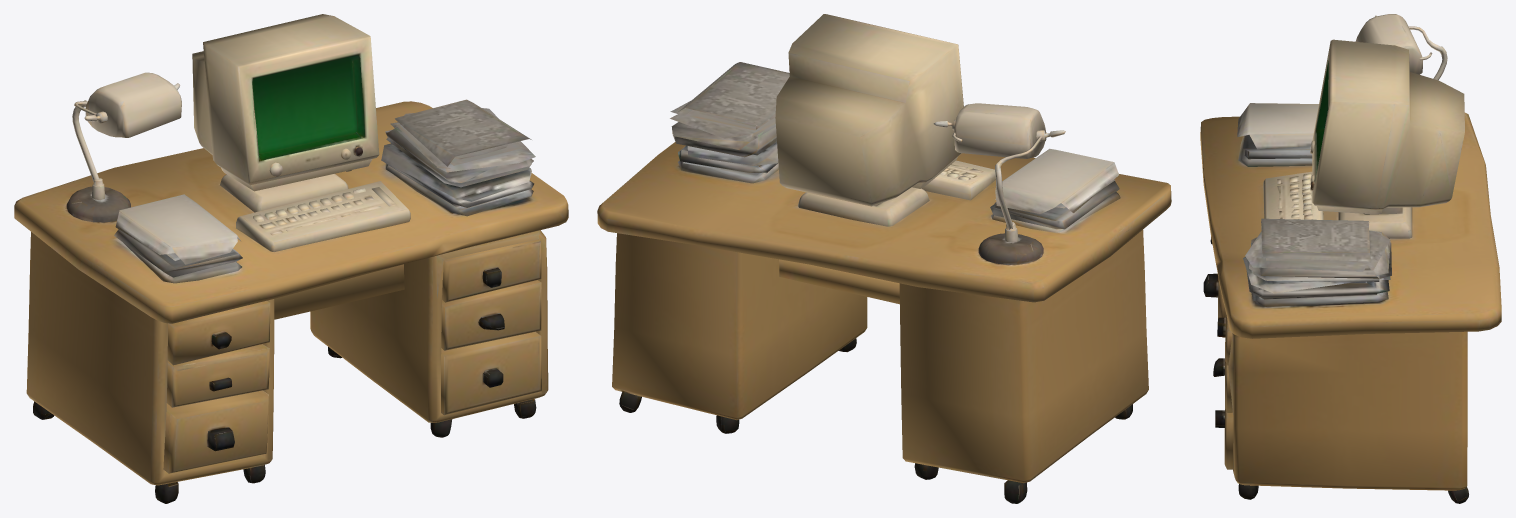
Rendered from Bank_OfficeDesk.glb.
3 renders of one model, left to right at view 1: azimuth 30°, elevation 25°; view 2: azimuth 150°, elevation 25°; view 3: azimuth 270°, elevation 25°, orthographic. The views are drawn at different scales.
Visible parts, largest first — view 1: tripo_node_2bf8f394-d2e4-43d5-8c07-0fe720157343; view 2: tripo_node_2bf8f394-d2e4-43d5-8c07-0fe720157343; view 3: tripo_node_2bf8f394-d2e4-43d5-8c07-0fe720157343.
Boxes of the visible parts, x1=… form: tripo_node_2bf8f394-d2e4-43d5-8c07-0fe720157343: x1=14, y1=14, x2=568, y2=503; tripo_node_2bf8f394-d2e4-43d5-8c07-0fe720157343: x1=597, y1=14, x2=1171, y2=503; tripo_node_2bf8f394-d2e4-43d5-8c07-0fe720157343: x1=1200, y1=14, x2=1501, y2=503.
Size of the model in its own units: 1 by 0.8192 by 0.6414.
1 material, 1 textured.
